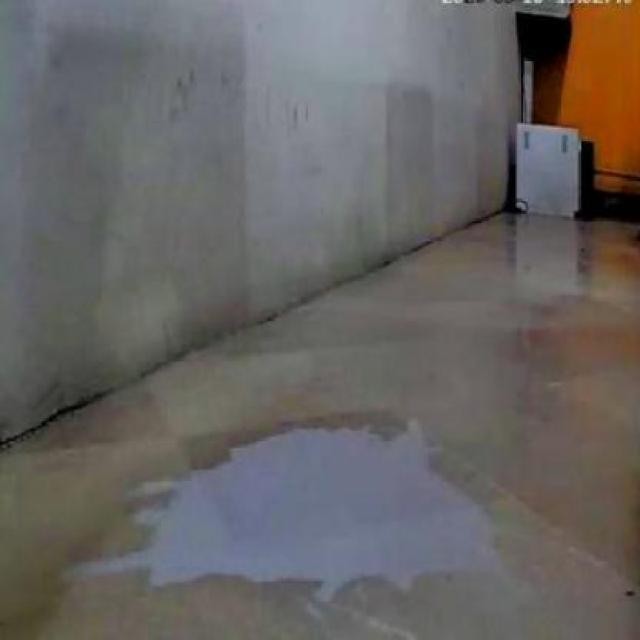spillage: (72, 429, 493, 588)
